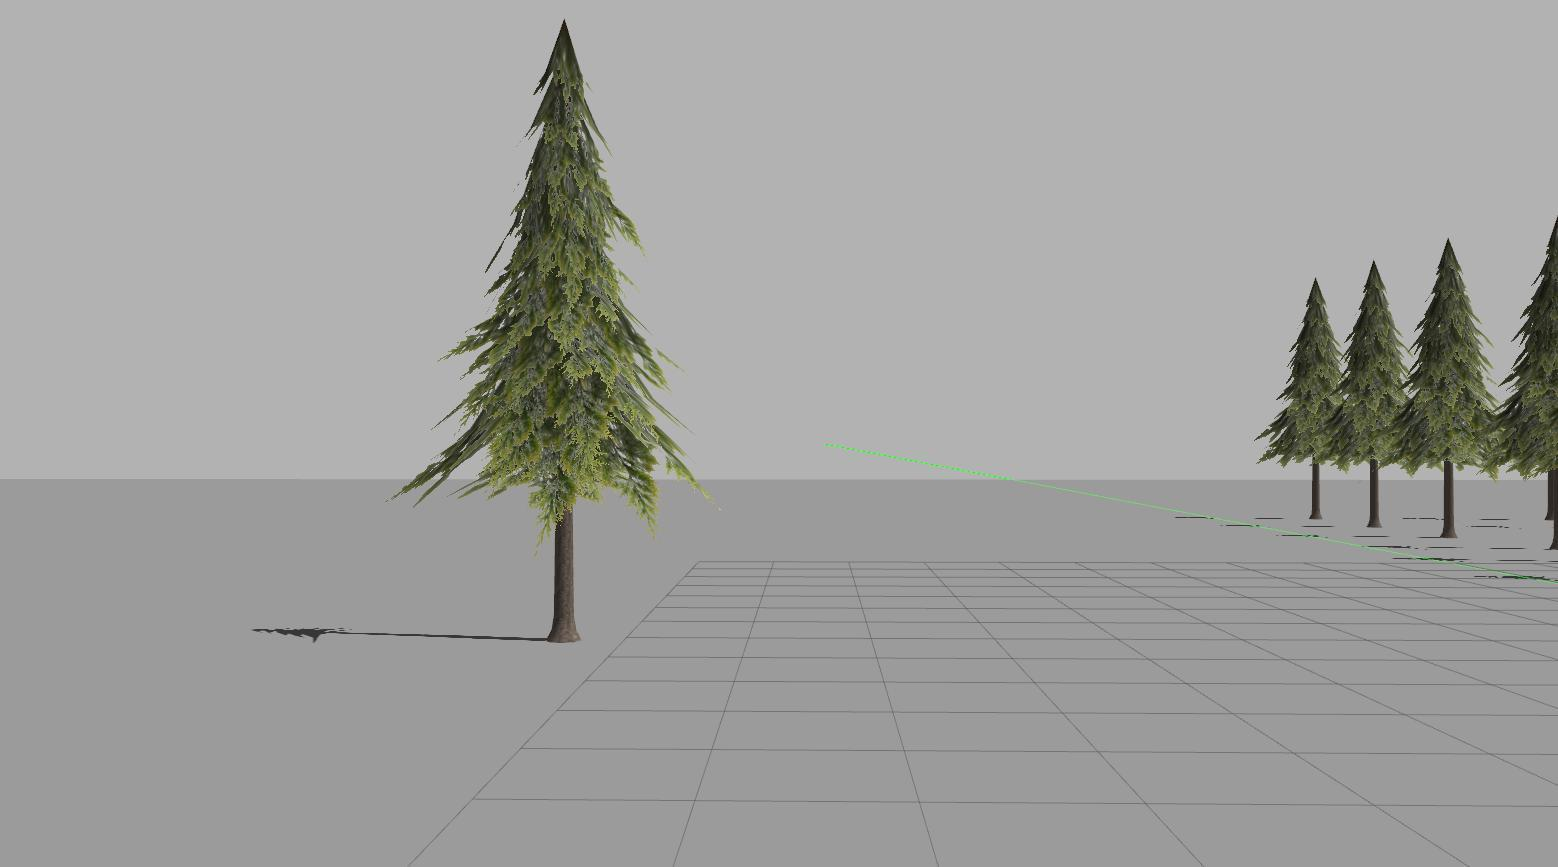tree_gazebo: (399, 25, 700, 645), (1397, 243, 1497, 538), (1330, 262, 1405, 530), (1497, 219, 1558, 551), (1260, 280, 1342, 520)
